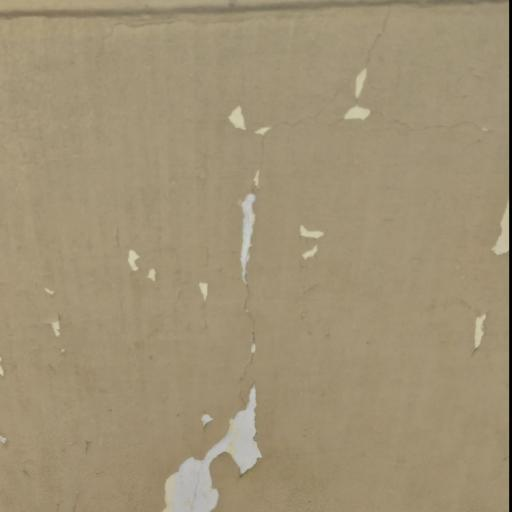peeling: (134, 364, 286, 512), (88, 237, 224, 305), (218, 175, 269, 276), (324, 54, 382, 128), (37, 285, 82, 348), (212, 108, 286, 140), (296, 207, 330, 276), (462, 293, 501, 353), (488, 178, 512, 268)
